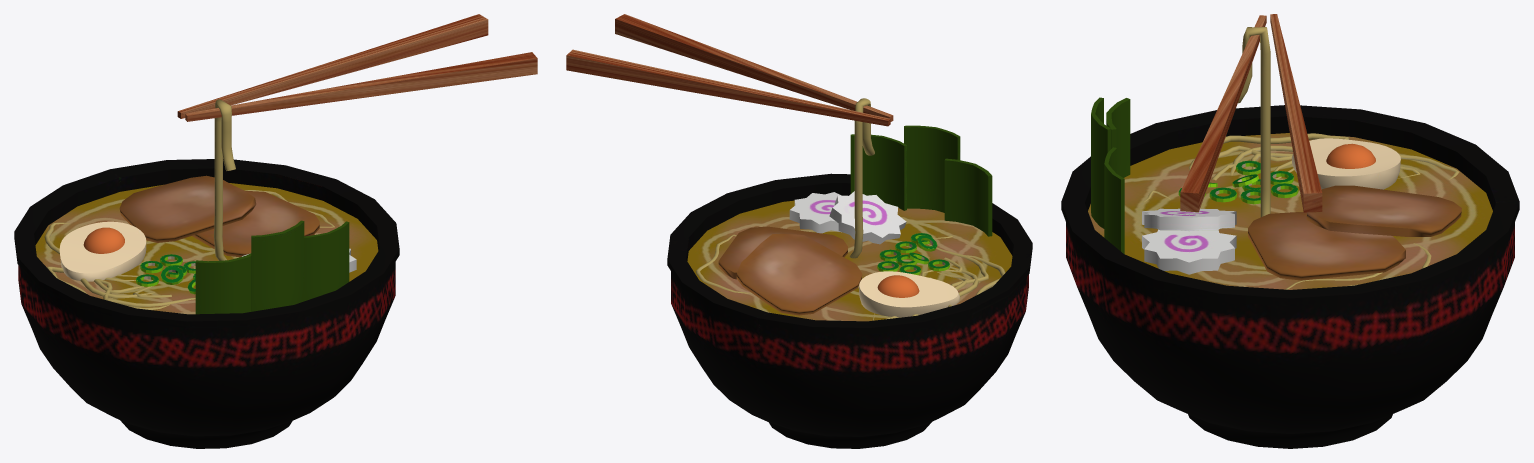
Rendered from ramen_bowl.glb.
The picture shows the model from 3 angles, left to right: view 1: azimuth 30°, elevation 25°; view 2: azimuth 150°, elevation 25°; view 3: azimuth 270°, elevation 25°; orthographic projection. The views are drawn at different scales.
Parts seen in each view (by area): view 1: cuenco, ramen (×12); view 2: ramen (×14), cuenco; view 3: cuenco, ramen (×14).
Part boxes in pixels (x1,y1,x2,y2): cuenco: (14, 159, 399, 448); ramen (×12): (35, 14, 537, 314); ramen (×14): (566, 14, 1012, 321); cuenco: (667, 173, 1032, 448); cuenco: (1061, 105, 1519, 448); ramen (×14): (1088, 14, 1492, 289).
Bounding box in the file's own units: 6.18 × 4.14 × 4.56.
Materials: 2 (2 with a texture image).
